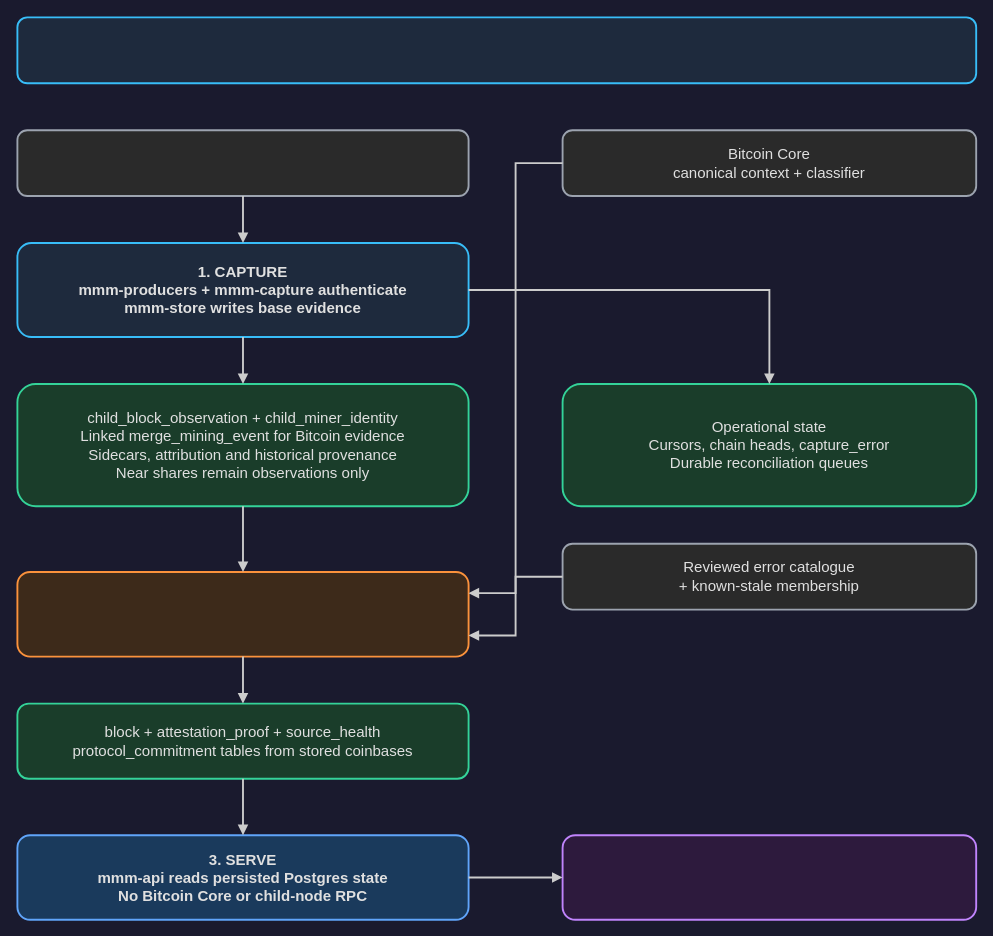
The diagram is 993 pixels wide and 936 high, and some of its shapes have lost their labels. Here are the shapes that lost their labels. From the top down, the centre of each, then its label:
At (x=496, y=50): "Merge Mining Monitor Capture evidence, derive views, serve read-only".
At (x=242, y=162): "Child-chain RPC / REST and pinned Research publication".
At (x=242, y=614): "2. RECONCILE mmm-read-model sole writer of derived tables".
At (x=769, y=877): "www/ frontend Header tree, timestamp deltas, Findings and block details".
